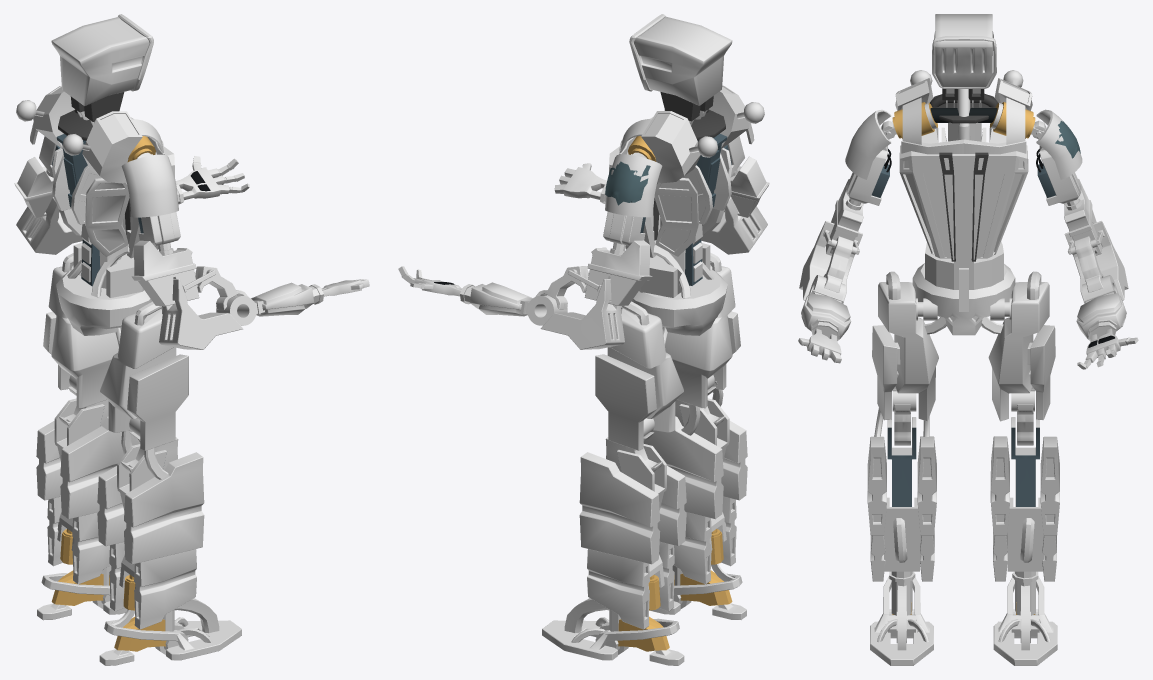
File: OriOri.fbx
3 views of the same model, side by side, from view 1: azimuth 30°, elevation 25°; view 2: azimuth 150°, elevation 25°; view 3: azimuth 270°, elevation 25° (orthographic).
Parts seen in each view (by area): view 1: Cube.040, Cube.024, Cube.039, Cube, Cube.011, Cube.025, Trapez, Cube.044, Cube.009, Cylinder.003, Cube.029, Omuz Koruyucu (+23 smaller); view 2: Cube.040, Cube.024, Cube.039, Cube, Cube.011, Cube.025, Cube.044, Trapez, Cube.009, Cube.029, Cylinder.003, Cube.043 (+22 smaller); view 3: Cylinder.006, Cube.024, Cube, Cube.041, Cube.025, Cube.048, Cube.039, Cube.040, Trapez, Cube.038, Omuz Koruyucu, Cylinder.003 (+28 smaller).
Boxes of the visible parts, x1,y1,x2,y2 form: Cube.040: (36,400,204,564); Cube.024: (48,265,176,432); Cube.039: (60,416,178,546); Cube: (51,17,149,106); Cube.011: (16,197,242,349); Cube.025: (43,311,188,450); Trapez: (33,86,163,183); Cube.044: (47,496,196,629); Cube.009: (14,157,199,306); Cylinder.003: (56,270,152,335); Cube.029: (52,148,129,256); Omuz Koruyucu: (30,122,178,217); Cube.040: (579,399,747,564); Cube.024: (607,265,735,432); Cube.039: (605,416,723,546); Cube: (634,16,732,105); Cube.011: (540,196,767,349); Cube.025: (595,311,740,450); Cube.044: (587,496,736,629); Trapez: (620,85,749,183); Cube.009: (584,156,769,305); Cube.029: (654,147,731,256); Cylinder.003: (631,269,727,335); Cube.043: (659,512,711,611); Cylinder.006: (899,145,1028,258); Cube.024: (878,282,1049,421); Cube: (934,14,993,86); Cube.041: (884,497,1043,571); Cube.025: (872,325,1055,420); Cube.048: (870,613,1057,665); Cube.039: (917,436,1009,535); Cube.040: (867,436,1059,535); Trapez: (895,78,1032,144); Cube.038: (887,417,1039,506); Omuz Koruyucu: (845,109,1082,179); Cylinder.003: (912,263,1015,335).
Bounding box in the file's own units: 603 × 1296 × 665.
